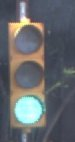Green: (5, 18, 58, 129)
